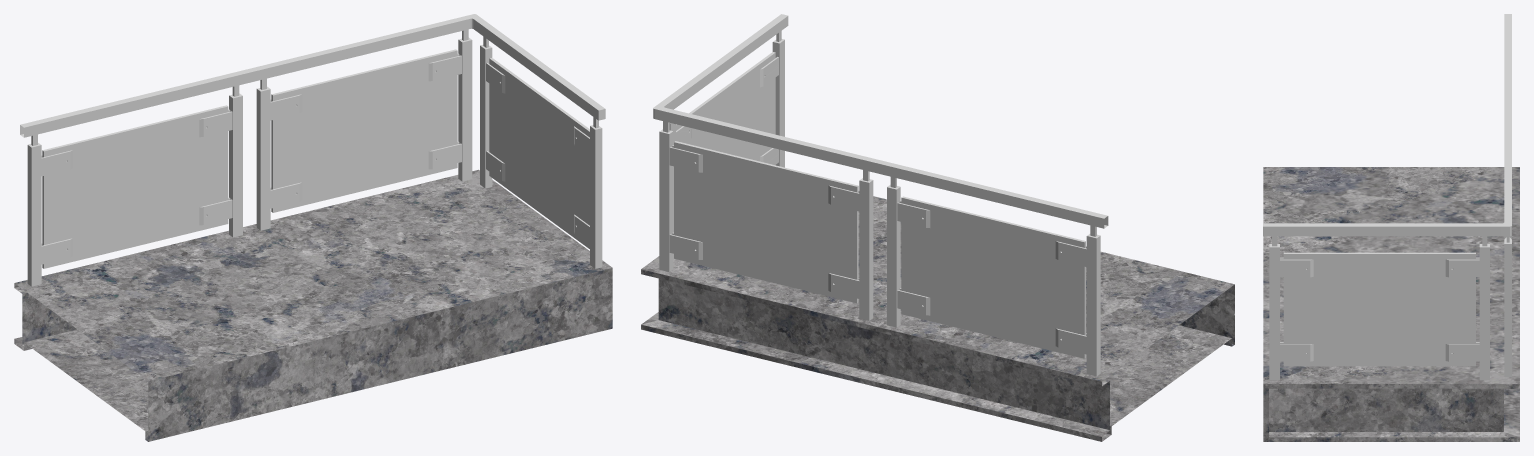
The model's file is SM_MallBalconyModule_400.fbx.
3 renders of one model, left to right at view 1: azimuth 30°, elevation 25°; view 2: azimuth 150°, elevation 25°; view 3: azimuth 270°, elevation 25°, orthographic. The views are drawn at different scales.
Parts seen in each view (by area): view 1: SM_MallBalconyModule_400; view 2: SM_MallBalconyModule_400; view 3: SM_MallBalconyModule_400.
Part boxes in pixels (left/top/right/bottom): SM_MallBalconyModule_400: left=14, top=14, right=612, bottom=441; SM_MallBalconyModule_400: left=641, top=14, right=1234, bottom=441; SM_MallBalconyModule_400: left=1263, top=14, right=1519, bottom=441.
Size of the model in its own units: 400 by 200 by 182.
